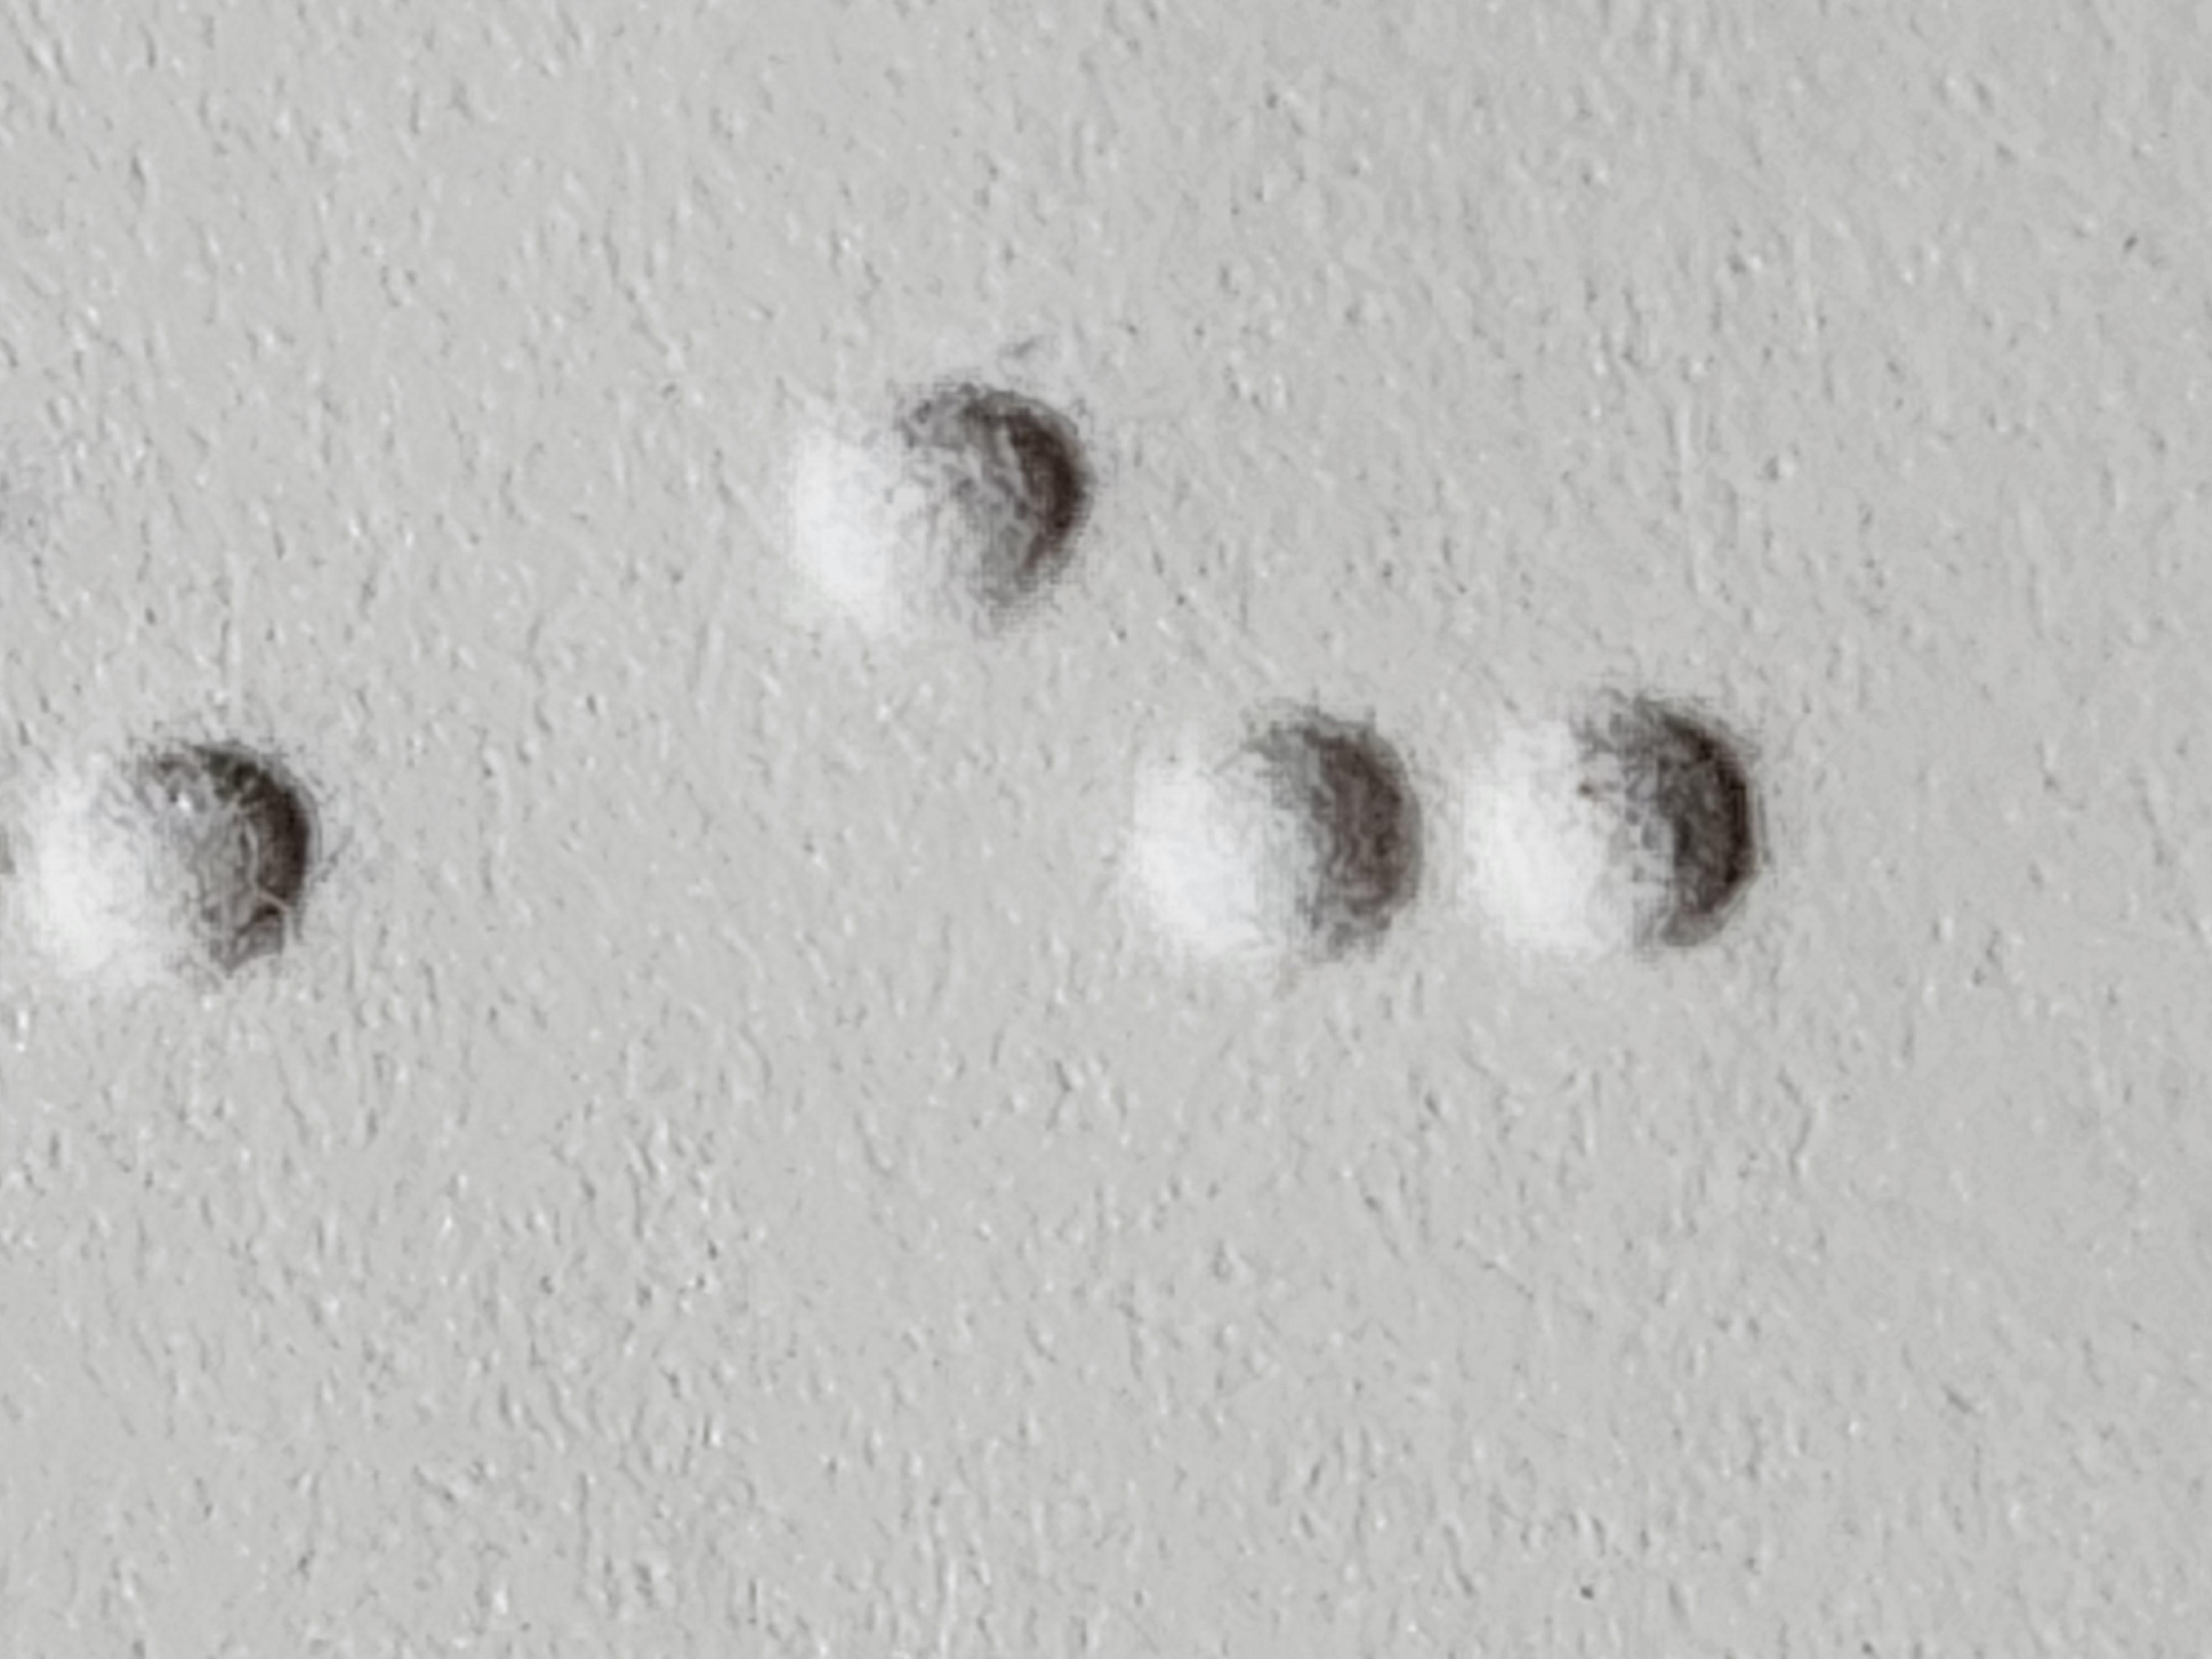one_cell_alphabet_sang-ayon: (900, 606, 1693, 1323)
